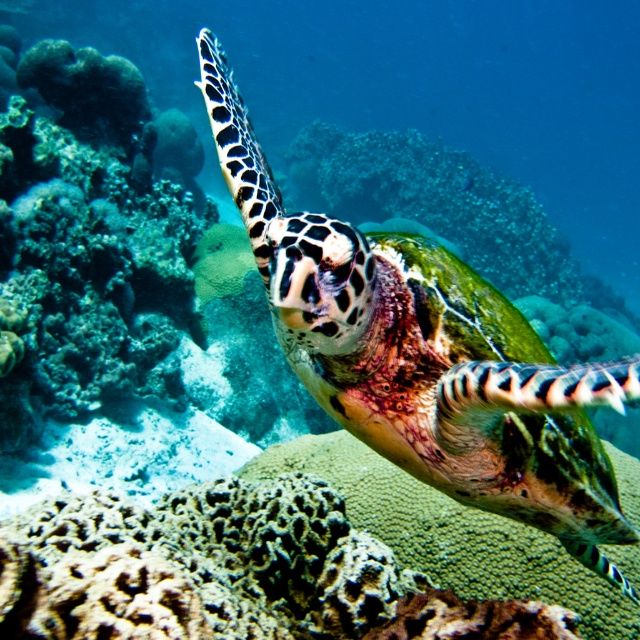Sea turtle: (191, 24, 640, 610)
